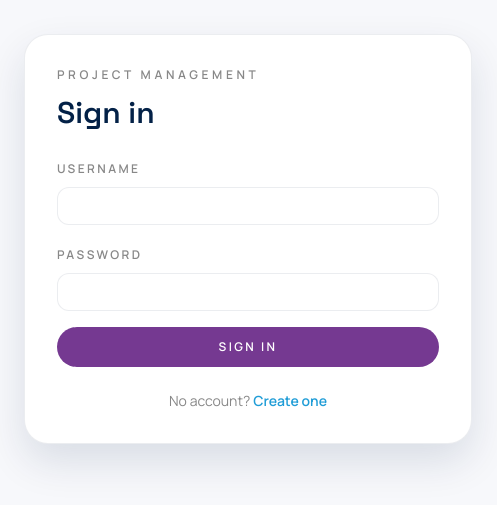
Test: AuthGate › shows registration form when clicking create account
Expected: the heading "Sign in" is shown, [57,93,155,132]
Click the button with test id "switch-to-register". click: (290, 401)
box: [253,391,327,411]
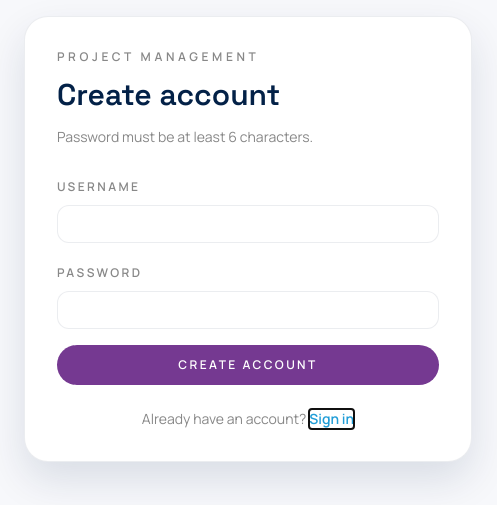
Expected: the heading "Create account" is shown, [57,75,280,114]
Expected: the button "Create account" is shown, [57,345,439,385]
